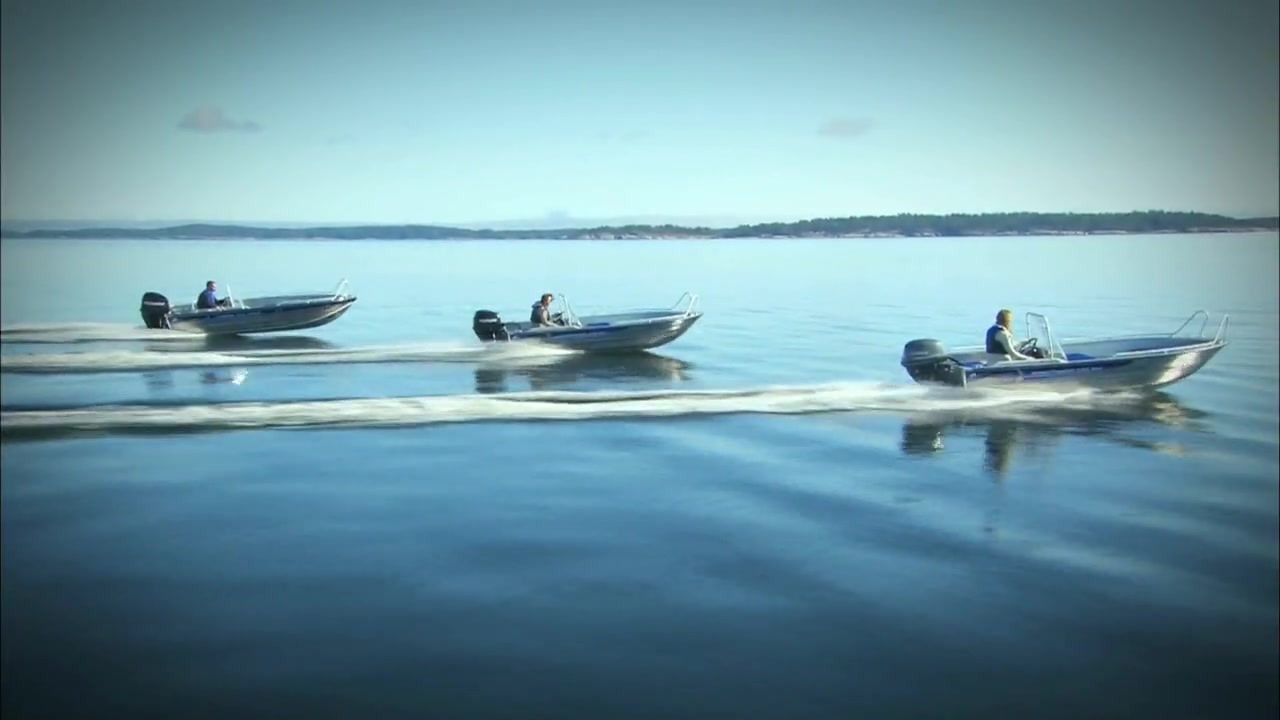boat: (901, 311, 1236, 399)
